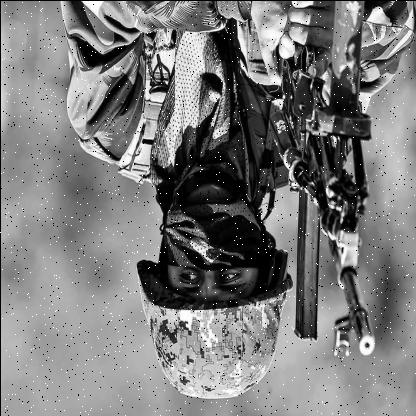rifle: (265, 0, 377, 361)
